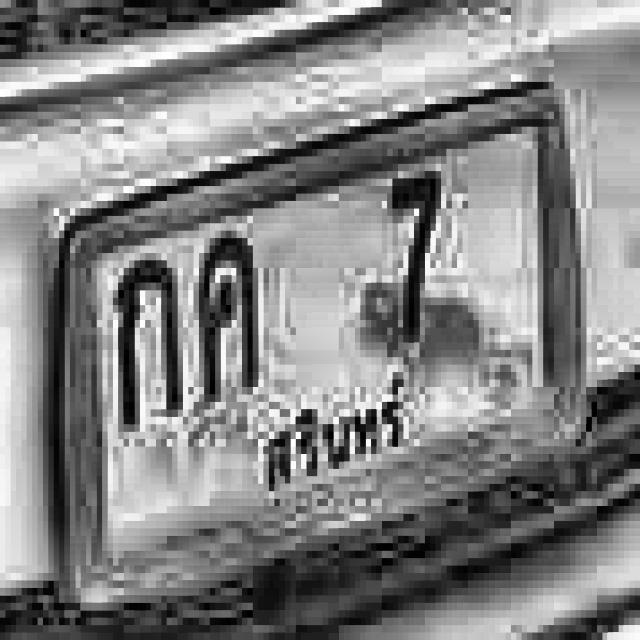license-plate: (45, 63, 598, 617)
